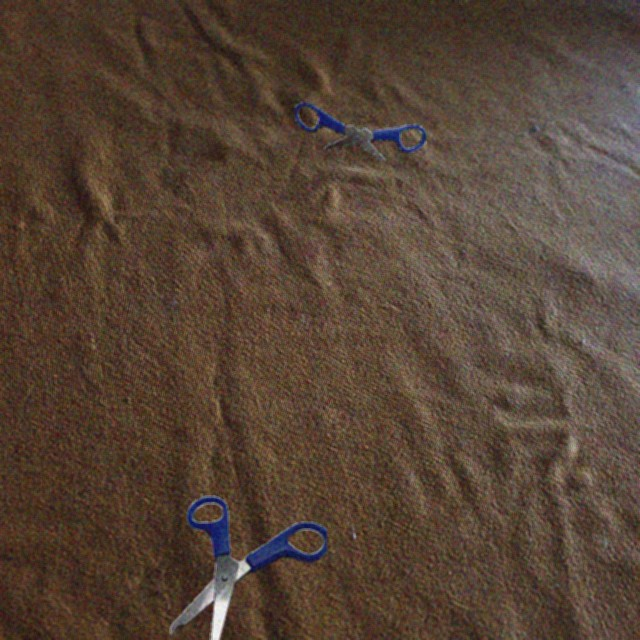scissors: (170, 496, 327, 640), (295, 102, 426, 161)
